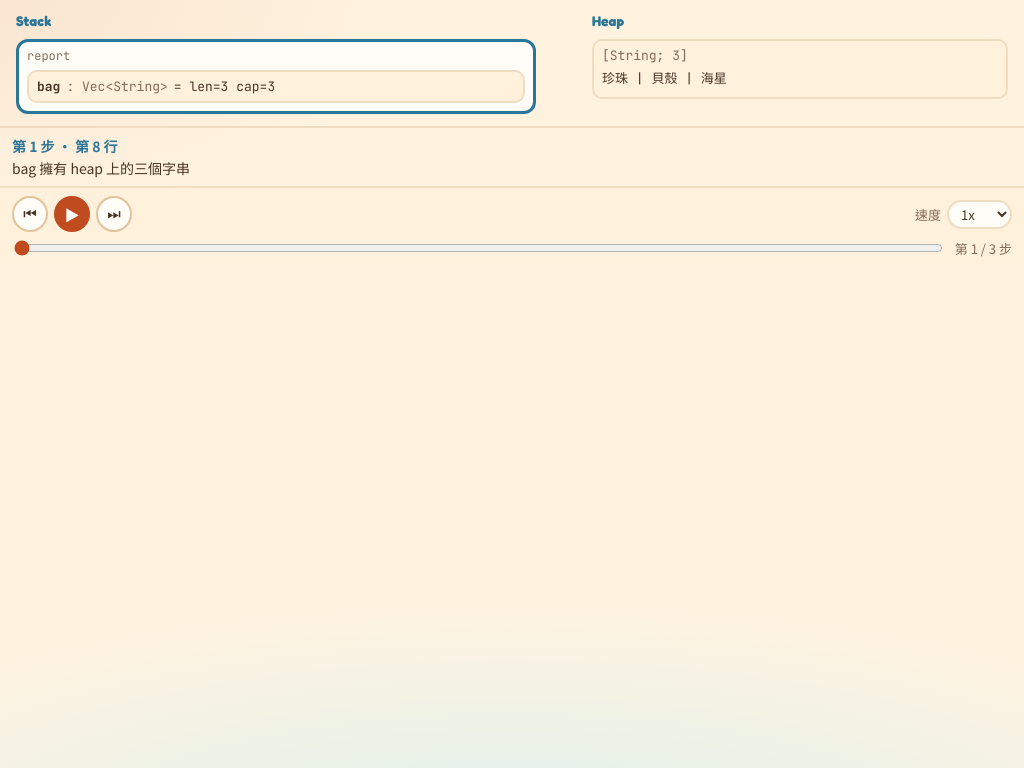
Test: F5 MemoryView › 播放到最後一步後按鈕變回播放
The image size is (1024, 768).
Click the button named "播放" at (72,214), box top-left (54, 196), bottom-right (90, 232)
Wait 10000 ms
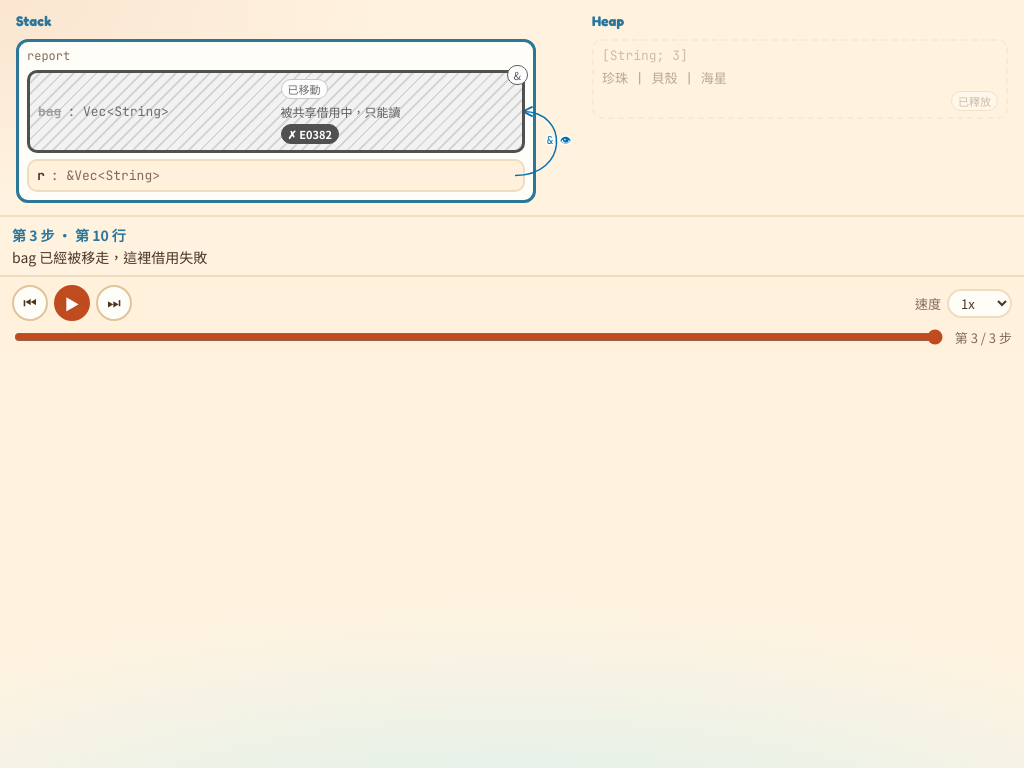
expect the button named "播放" is shown: met, box top-left (54, 285), bottom-right (90, 321)
expect the text with test id "step-label" reads "第 3 / 3 步": met, box top-left (955, 328), bottom-right (1012, 346)
